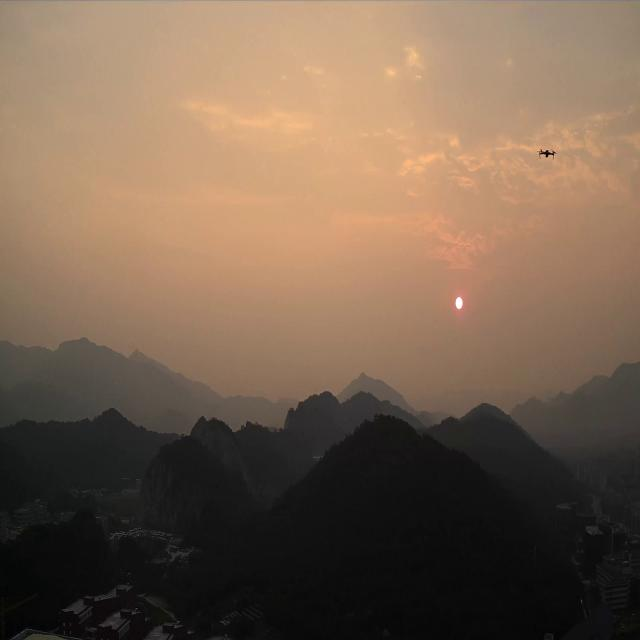UAV: (536, 148, 556, 159)
